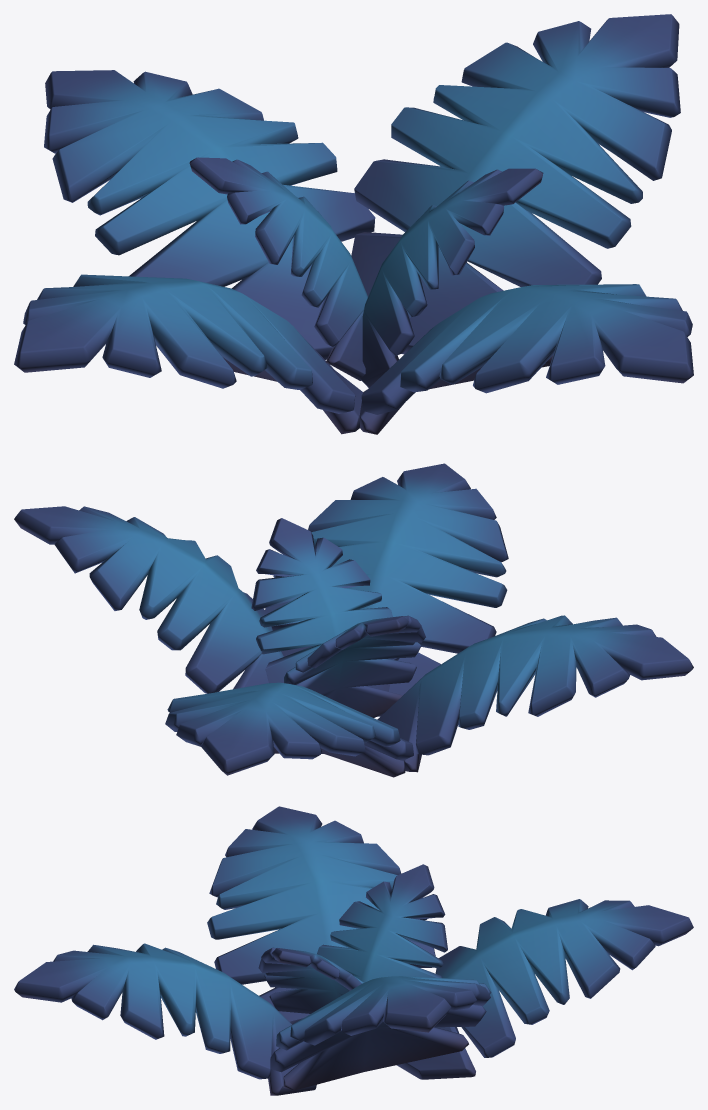
Rendered from Plants_020.fbx.
3 views of the same model, one above another, from view 1: azimuth 30°, elevation 25°; view 2: azimuth 150°, elevation 25°; view 3: azimuth 270°, elevation 25° (orthographic). The views are drawn at different scales.
Parts seen in each view (by area): view 1: Plants.020; view 2: Plants.020; view 3: Plants.020.
Boxes of the visible parts, x1,y1,x2,y2 form: Plants.020: (14,14,693,434); Plants.020: (14,463,693,777); Plants.020: (14,806,693,1095).
Size of the model in its own units: 991 by 294 by 1041.
